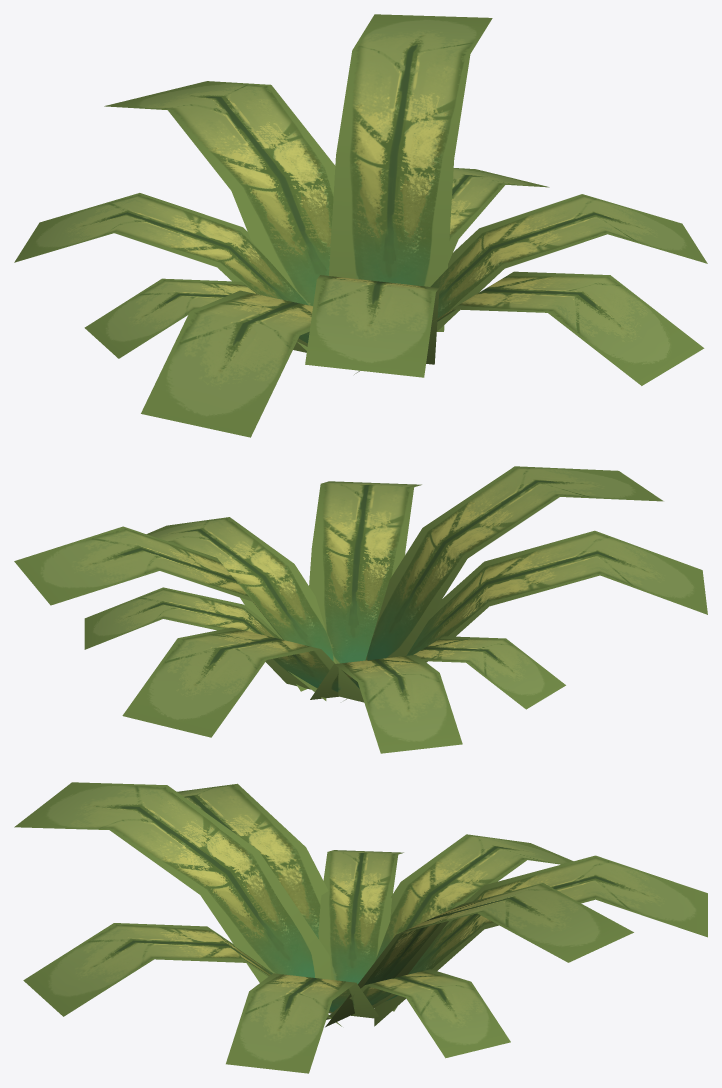
The model's file is V_F_Plant.FBX.
3 renders of one model, top to bottom at view 1: azimuth 30°, elevation 25°; view 2: azimuth 150°, elevation 25°; view 3: azimuth 270°, elevation 25°, orthographic. The views are drawn at different scales.
Visible parts, largest first — view 1: Plane159; view 2: Plane159; view 3: Plane159.
Part boxes in pixels (left/top/right/bottom): Plane159: left=14, top=14, right=707, bottom=437; Plane159: left=14, top=466, right=707, bottom=753; Plane159: left=14, top=782, right=707, bottom=1073.
Bounding box in the file's own units: 42.71 × 12.86 × 47.37.
